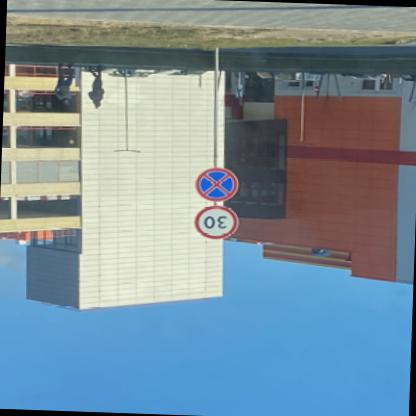speedlimit: (195, 206, 242, 242)
